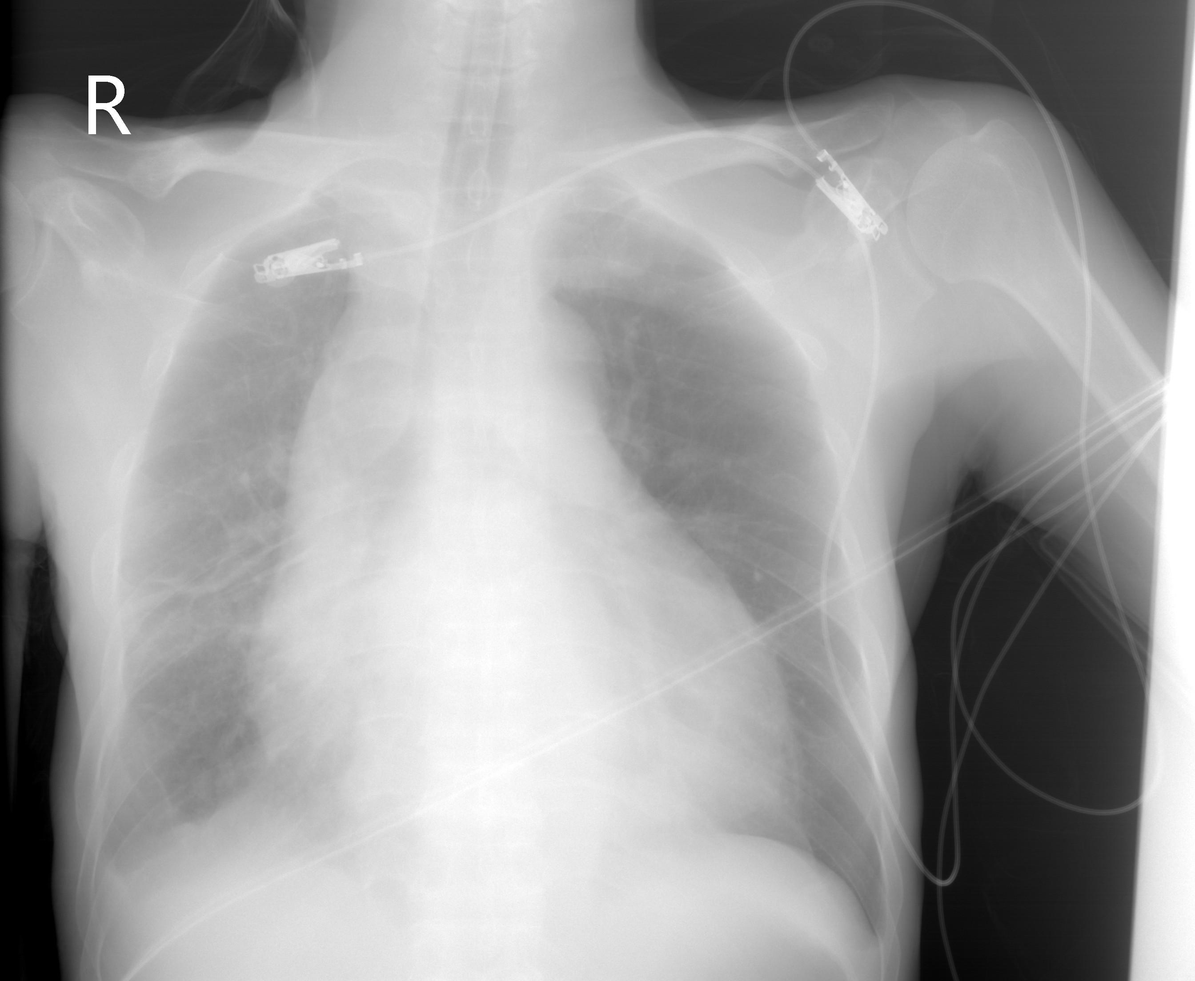Aortic enlargement: (473, 286, 610, 452)
Cardiomegaly: (241, 621, 802, 847)
Pleural thickening: (516, 155, 795, 368), (278, 157, 365, 215), (98, 839, 132, 921), (870, 917, 890, 967)
Pulmonary fibrosis: (122, 479, 296, 649), (144, 760, 186, 831)
